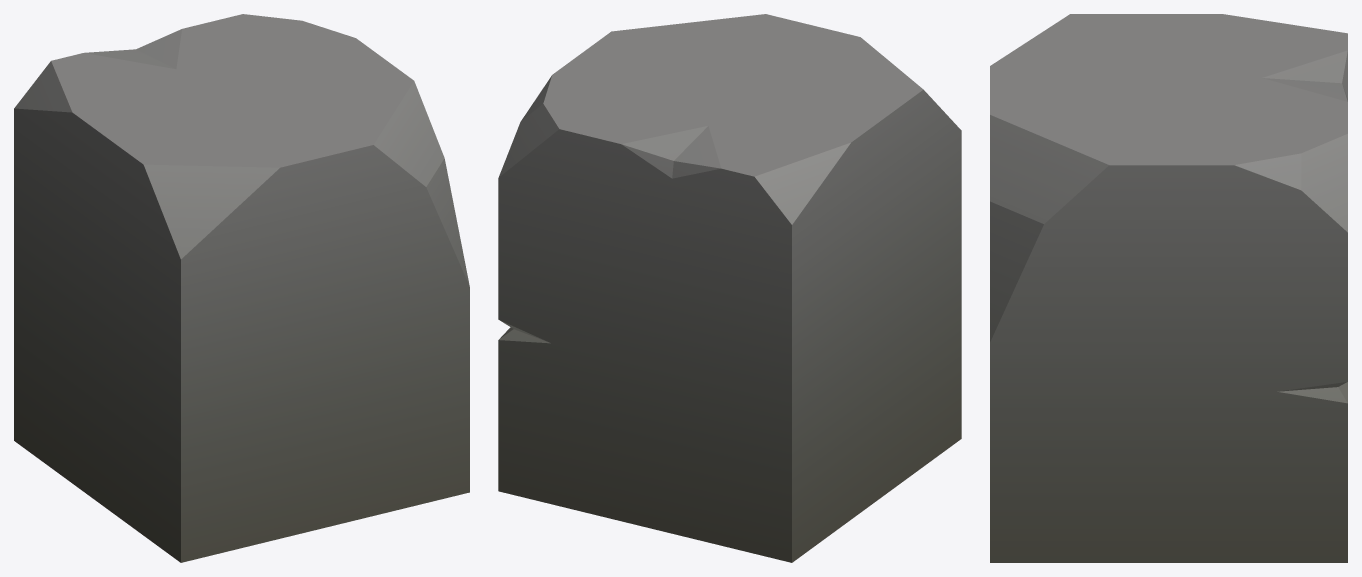
File: Mountain_01.fbx
3 renders of one model, left to right at view 1: azimuth 30°, elevation 25°; view 2: azimuth 150°, elevation 25°; view 3: azimuth 270°, elevation 25°, orthographic. The views are drawn at different scales.
Visible parts, largest first — view 1: Mountain_01; view 2: Mountain_01; view 3: Mountain_01.
Part boxes in pixels (x1,y1,x2,y2): Mountain_01: (14, 14, 469, 562); Mountain_01: (498, 14, 961, 562); Mountain_01: (990, 14, 1347, 562).
Bounding box in the file's own units: 4.78 × 5.87 × 4.78.
